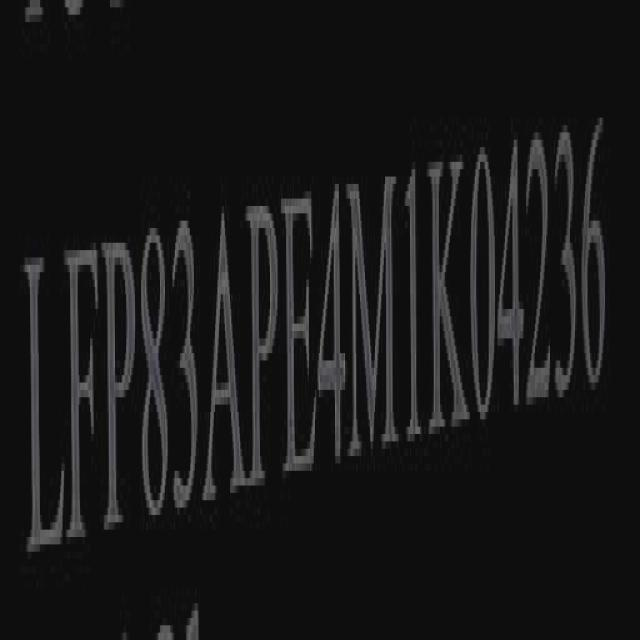0: (471, 152, 496, 428)
1: (403, 150, 422, 455)
2: (524, 123, 552, 406)
3: (171, 215, 198, 515), (553, 112, 578, 400)
4: (316, 188, 350, 477), (496, 128, 526, 409)
6: (580, 109, 608, 400)
8: (138, 216, 168, 532)
A: (202, 199, 247, 496)
E: (280, 177, 318, 491)
F: (64, 229, 102, 550)
K: (428, 139, 470, 447)
L: (26, 234, 66, 562)
M: (347, 166, 399, 458)
P: (102, 232, 137, 528), (247, 177, 278, 491)
